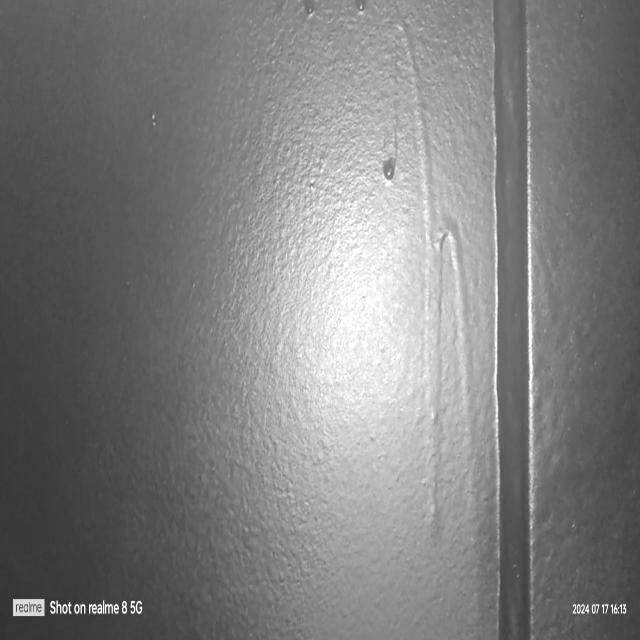paint drips: (293, 1, 497, 640)
